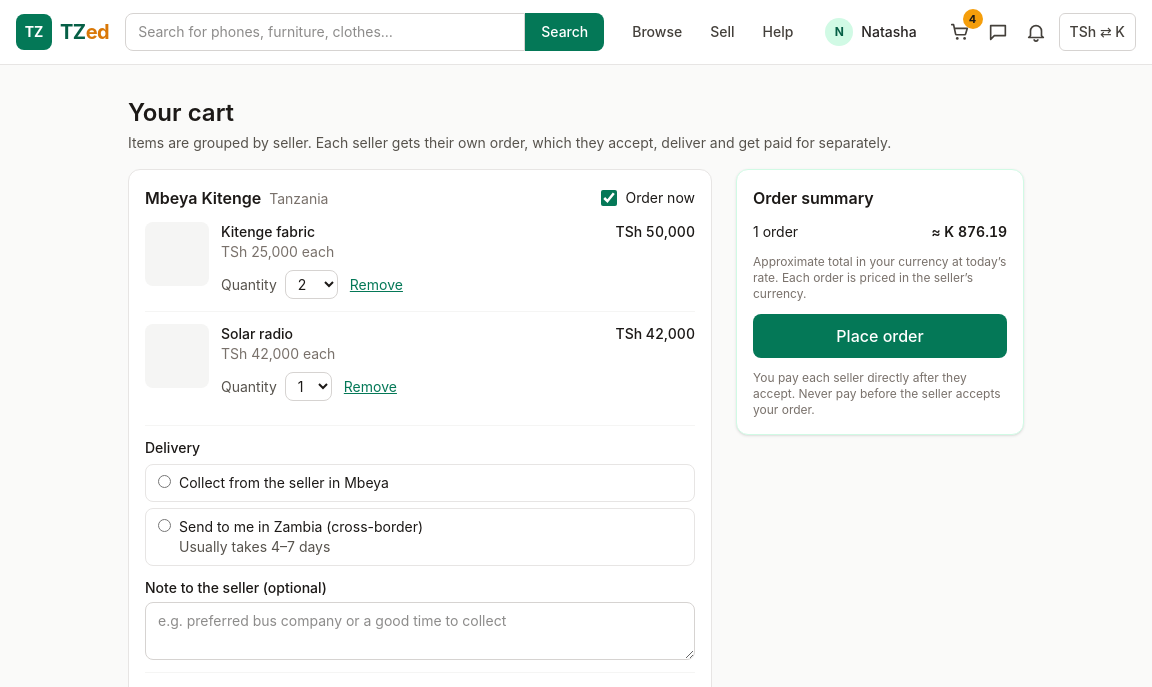
Test: Cart › can leave a seller out, and blocks a seller with an item that sold out
Expected: the button "Place order" is enabled, [753, 314, 1007, 358]
Click the checkbox labelled "Order now" at x=609, y=198, box [601, 190, 617, 206]
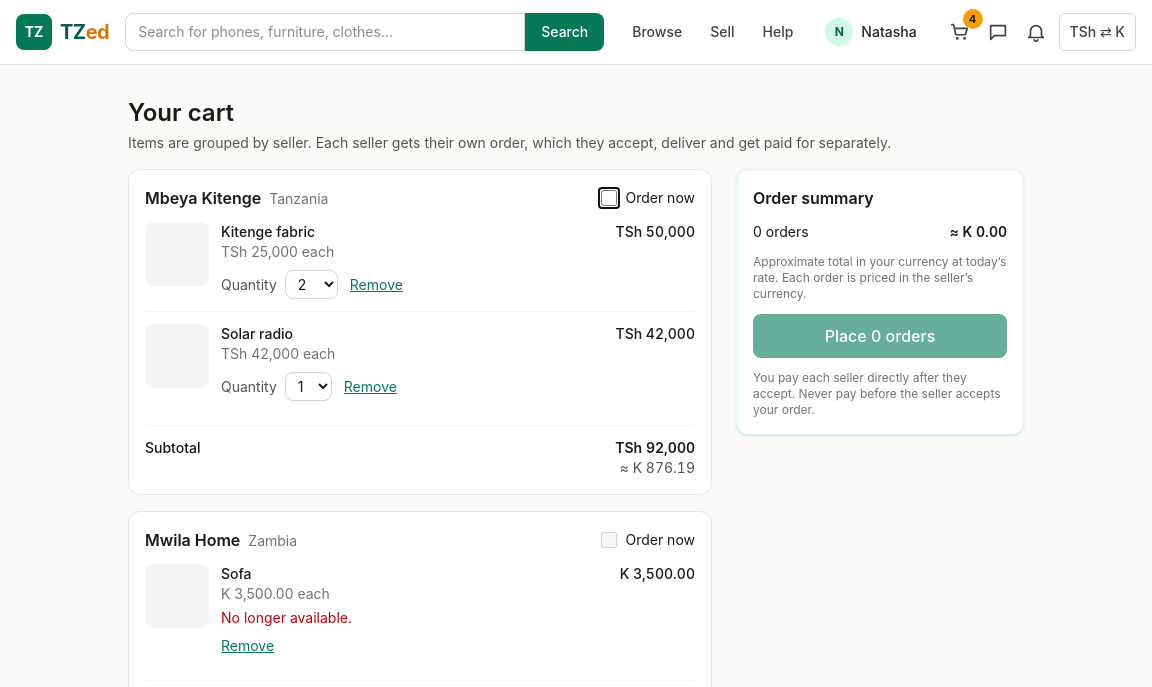
Expected: the button "Place 0 orders" is disabled, [753, 314, 1007, 358]
